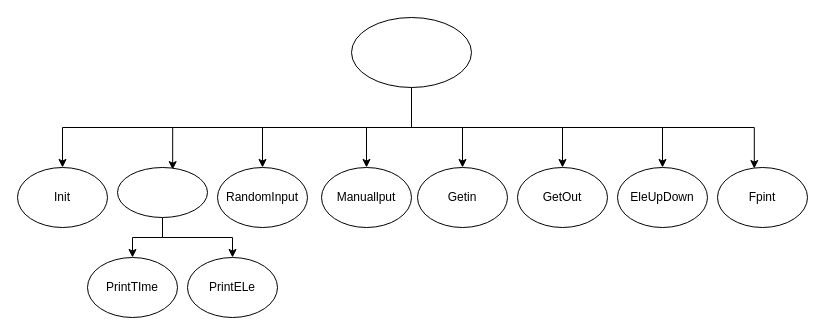
Image size: 825x335. Some labels were removed from this diagram. The shapes that lost their labels are listed below. From the top down, each one's centre as x and y in pixels, then its label:
At point (411, 52): "main".
At point (162, 192): "PrintAll".
